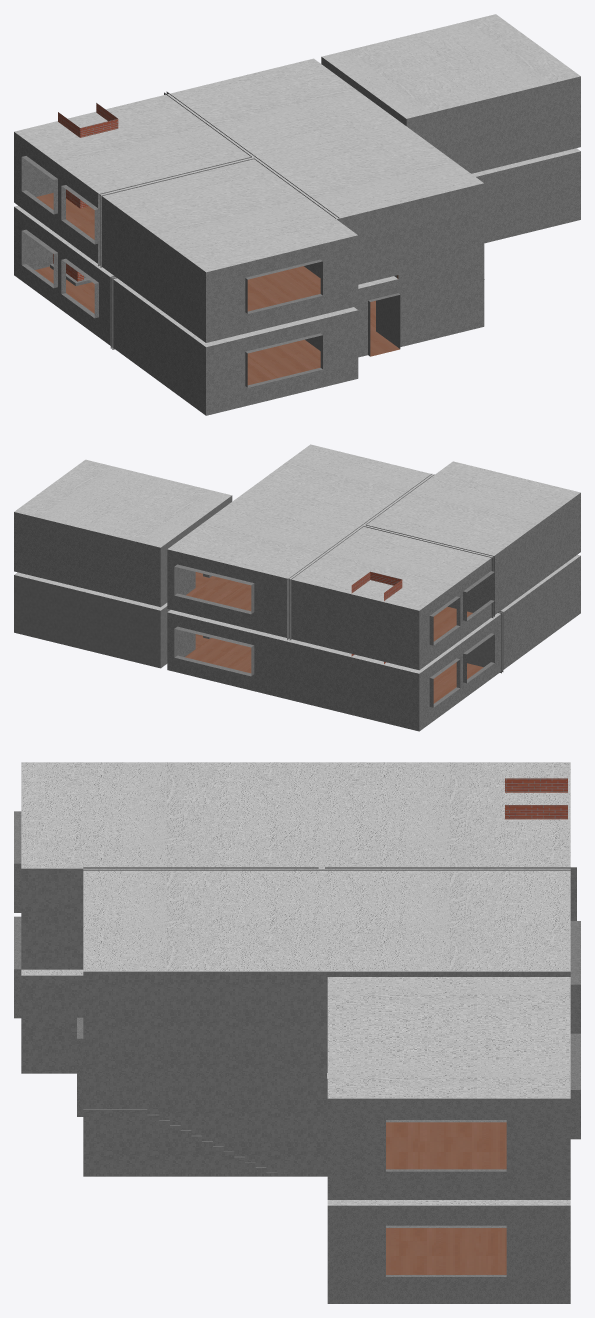
The model's file is mansion_inside.glb.
3 renders of one model, top to bottom at view 1: azimuth 30°, elevation 25°; view 2: azimuth 150°, elevation 25°; view 3: azimuth 270°, elevation 25°, orthographic. The views are drawn at different scales.
Parts seen in each view (by area): view 1: walls, walls-inside.001, fireplate, stairs; view 2: walls, walls-inside.001, walls-inside, fireplate; view 3: walls, walls-inside.001, fireplate.
Boxes of the visible parts, left/top/right/bottom form: walls: left=14, top=14, right=580, bottom=415; walls-inside.001: left=98, top=91, right=338, bottom=277; fireplate: left=50, top=103, right=118, bottom=285; stairs: left=376, top=275, right=484, bottom=347; walls: left=14, top=444, right=580, bottom=731; walls-inside.001: left=287, top=474, right=494, bottom=640; walls-inside: left=467, top=611, right=503, bottom=673; fireplate: left=351, top=571, right=402, bottom=663; walls: left=14, top=762, right=580, bottom=1303; walls-inside.001: left=83, top=867, right=576, bottom=920; fireplate: left=505, top=778, right=567, bottom=819.
Size of the model in its own units: 3.39 by 1.03 by 2.38.
4 materials, 4 textured.
